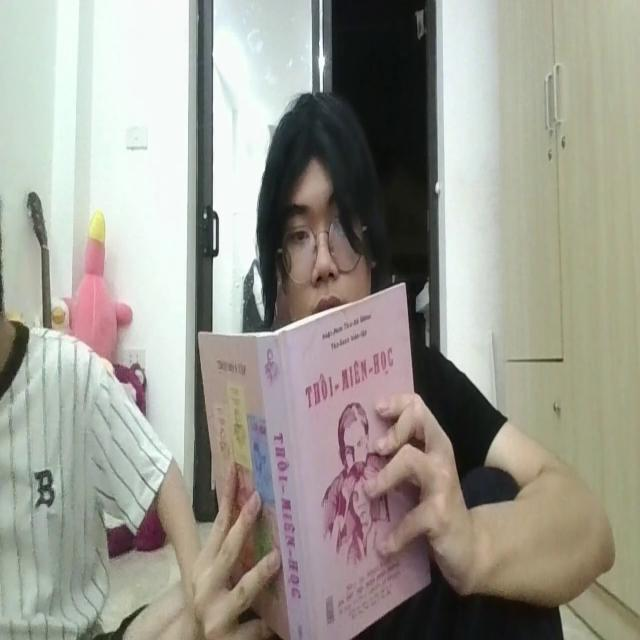book: (200, 277, 436, 634)
extra_person: (0, 306, 194, 640)
student: (261, 95, 615, 640)
